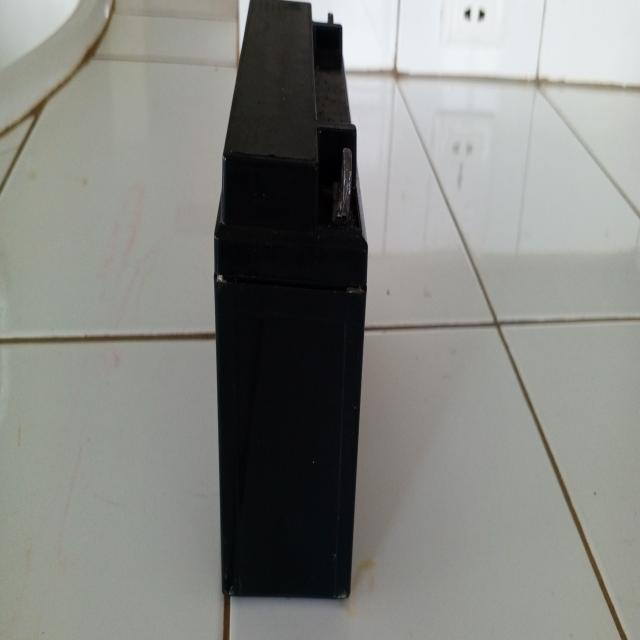Dry Cell: (214, 0, 377, 627)
